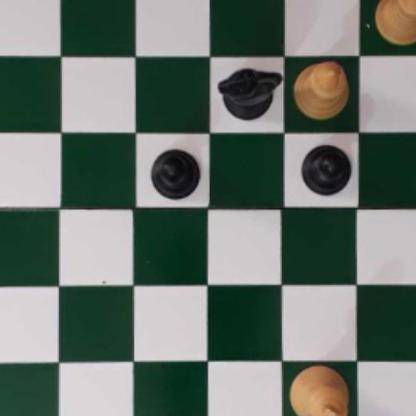black-knight: (216, 67, 283, 122)
black-pawn: (148, 148, 202, 200), (301, 141, 351, 197)
white-bishop: (291, 59, 351, 122)
white-king: (288, 363, 351, 416)
white-rook: (373, 0, 416, 45)
